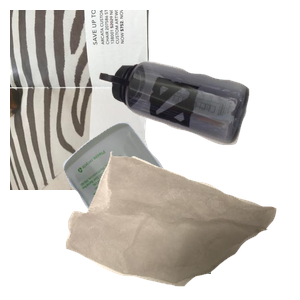glass: (60, 120, 300, 300)
paper: (10, 10, 250, 190)
plastic: (97, 59, 300, 197)
trash: (63, 149, 300, 300)
